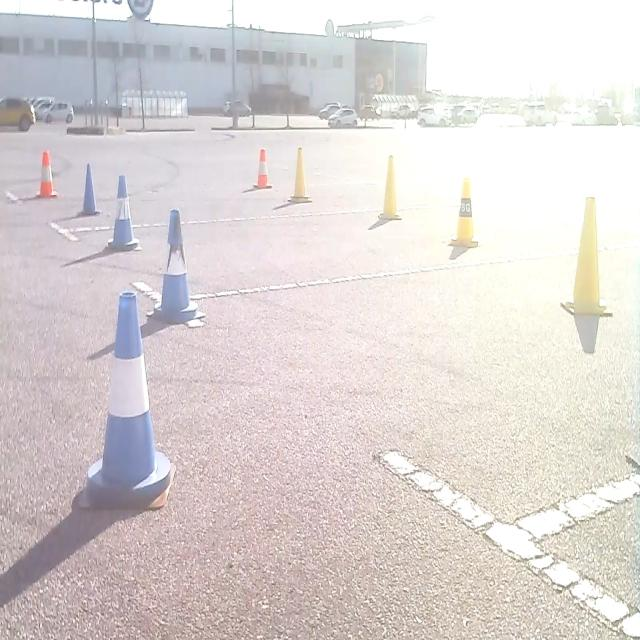blue_cone: (78, 288, 173, 511), (146, 206, 203, 324)
orange_cone: (36, 148, 58, 198), (252, 146, 272, 190)
yellow_cone: (560, 195, 612, 316), (106, 173, 142, 251), (448, 176, 478, 248), (378, 153, 402, 220), (288, 145, 312, 203), (78, 160, 100, 216)
